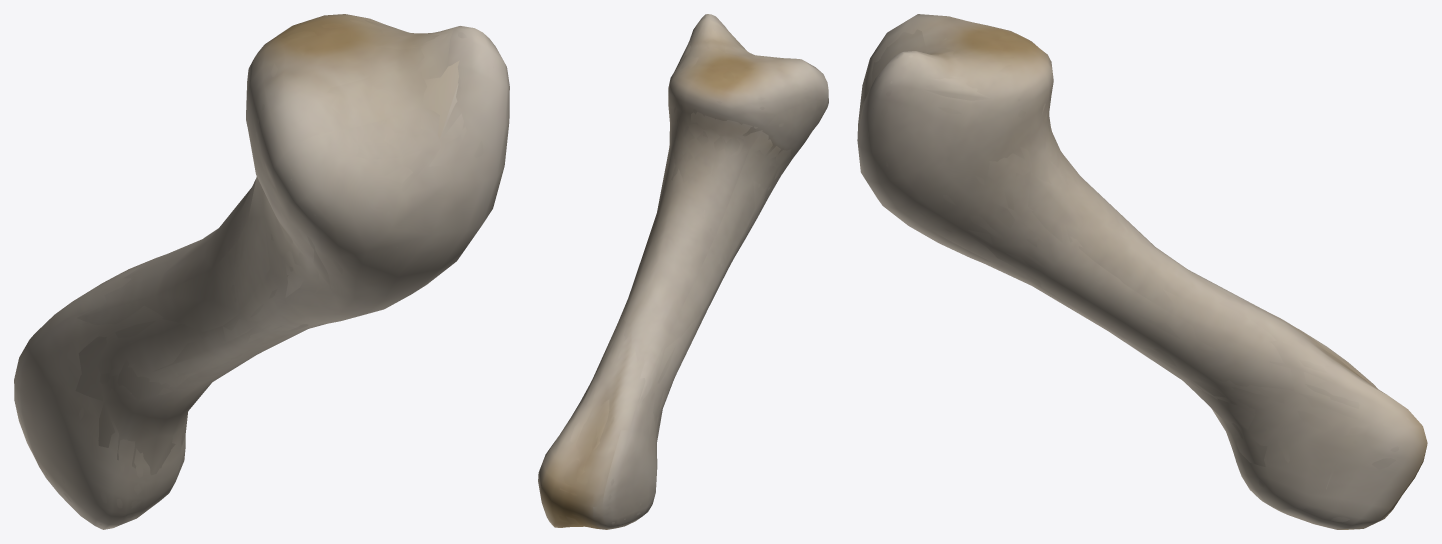
Rendered from R Humerus.fbx.
3 renders of one model, left to right at view 1: azimuth 30°, elevation 25°; view 2: azimuth 150°, elevation 25°; view 3: azimuth 270°, elevation 25°, orthographic. The views are drawn at different scales.
Parts seen in each view (by area): view 1: R Humerus, R Humerus low, R Humerus high; view 2: R Humerus, R Humerus low, R Humerus high; view 3: R Humerus, R Humerus low, R Humerus high.
Part boxes in pixels (<box>): R Humerus: <box>14,14,509,529</box>; R Humerus low: <box>75,20,466,508</box>; R Humerus high: <box>17,19,507,526</box>; R Humerus: <box>538,14,828,529</box>; R Humerus low: <box>563,24,791,527</box>; R Humerus high: <box>546,17,822,526</box>; R Humerus: <box>857,14,1427,529</box>; R Humerus low: <box>861,29,1370,466</box>; R Humerus high: <box>860,22,1410,529</box>.
Bounding box in the file's own units: 4.01 × 11 × 11.42.
